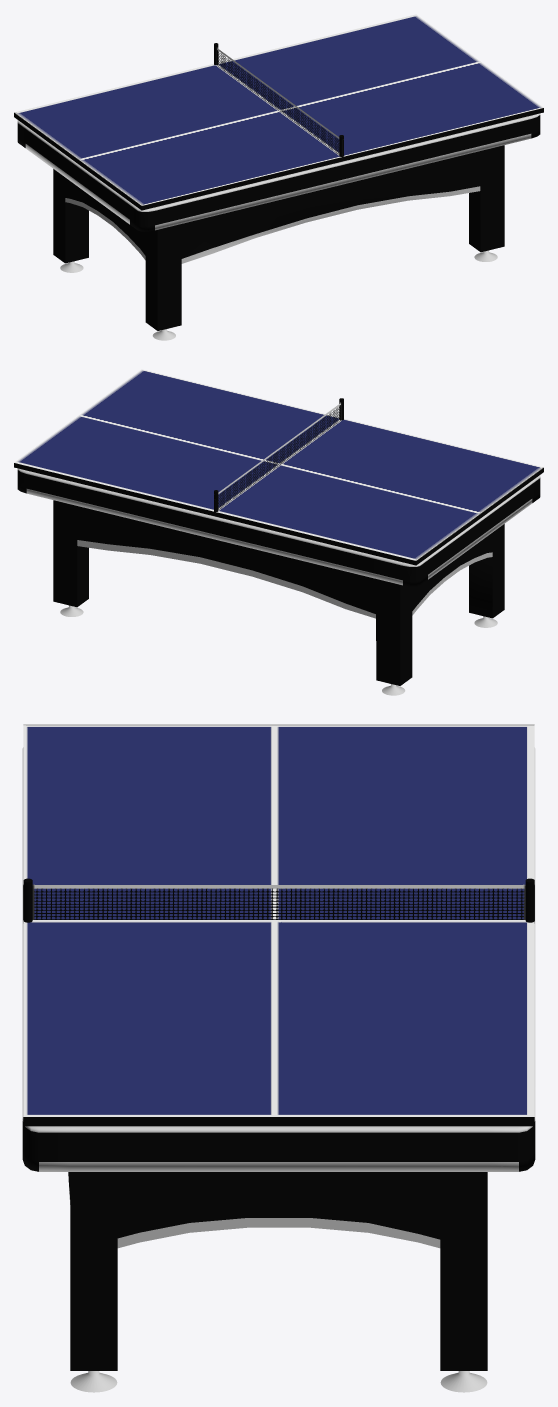
File: Mesa de billar.fbx
3 renders of one model, top to bottom at view 1: azimuth 30°, elevation 25°; view 2: azimuth 150°, elevation 25°; view 3: azimuth 270°, elevation 25°, orthographic. The views are drawn at different scales.
Parts seen in each view (by area): view 1: Mesa de ping pong, Mesa de billar, red; view 2: Mesa de ping pong, Mesa de billar, red; view 3: Mesa de ping pong, Mesa de billar, red.
Part boxes in pixels (<box>): Mesa de ping pong: <box>14,14,543,210</box>; Mesa de billar: <box>17,113,540,340</box>; red: <box>214,43,343,156</box>; Mesa de ping pong: <box>14,369,543,565</box>; Mesa de billar: <box>17,468,540,695</box>; red: <box>214,398,343,512</box>; Mesa de ping pong: <box>23,724,534,1126</box>; Mesa de billar: <box>22,747,535,1392</box>; red: <box>23,878,534,923</box>.
Bounding box in the file's own units: 1342 × 550 × 741.
